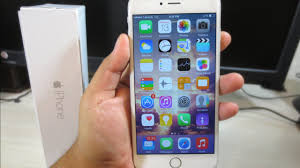iphone: (123, 1, 223, 168)
iphone6: (125, 1, 225, 168)
